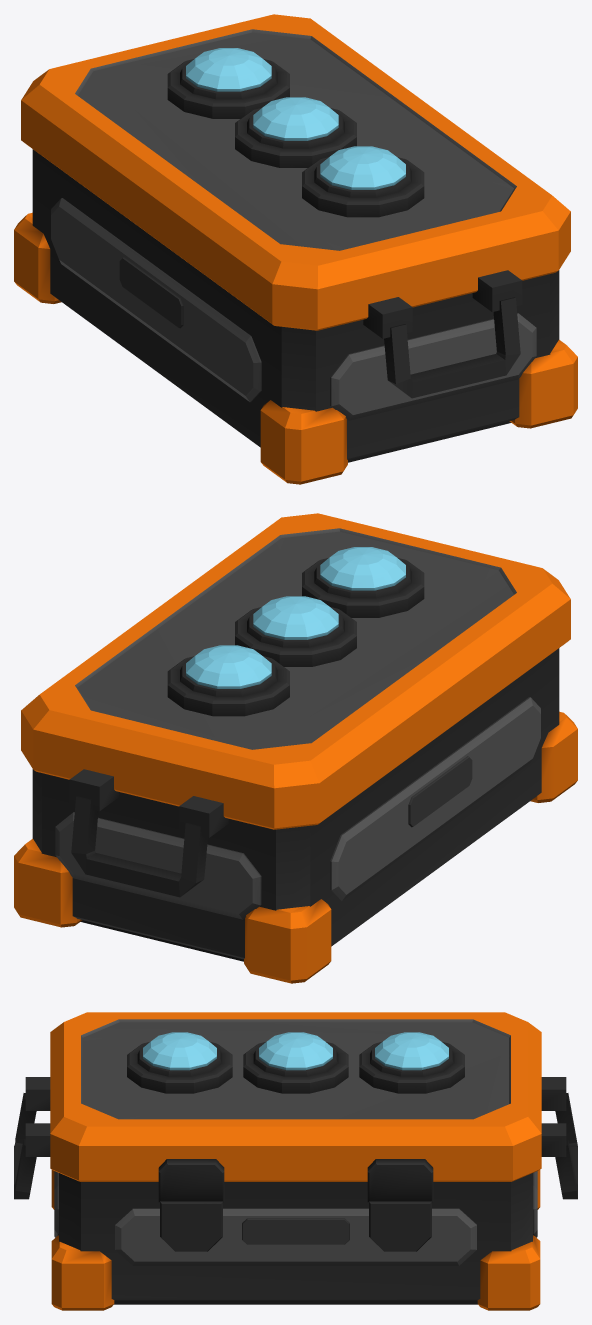
Rendered from ammo-crate.glb.
The picture shows the model from 3 angles, top to bottom: view 1: azimuth 30°, elevation 25°; view 2: azimuth 150°, elevation 25°; view 3: azimuth 270°, elevation 25°; orthographic projection. The views are drawn at different scales.
Parts seen in each view (by area): view 1: ammo-crate; view 2: ammo-crate; view 3: ammo-crate.
Part boxes in pixels (x1,y1,x2,y2): ammo-crate: (14,14,577,484); ammo-crate: (14,513,577,983); ammo-crate: (14,1012,577,1310).
Bounding box in the file's own units: 0.458 × 0.345 × 0.826.
Materials: 1 (1 with a texture image).
